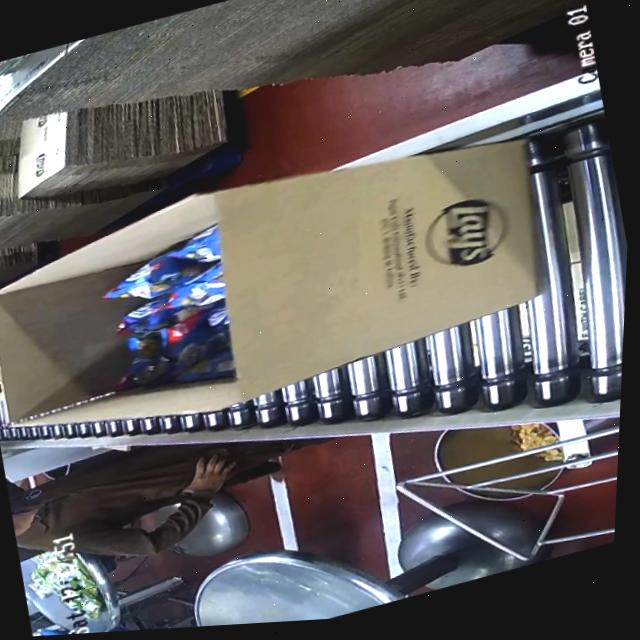PAPRIKA: (87, 232, 246, 414)
